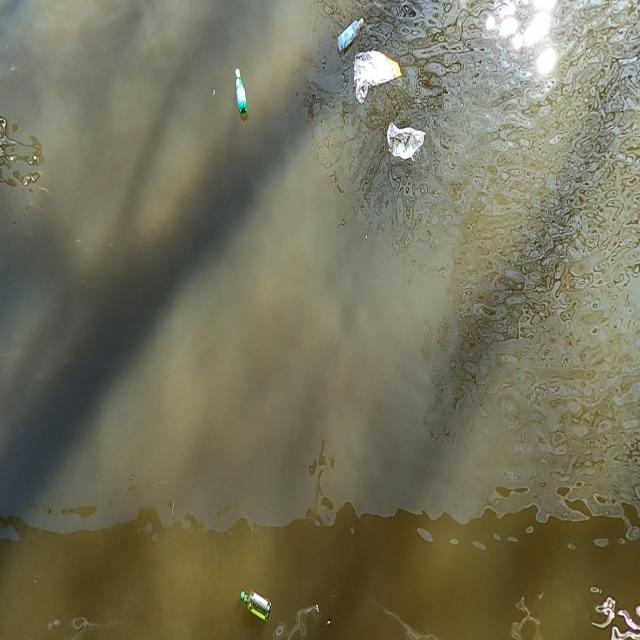Bouteille plastique: (234, 590, 279, 625), (334, 11, 368, 51), (232, 66, 255, 122)
